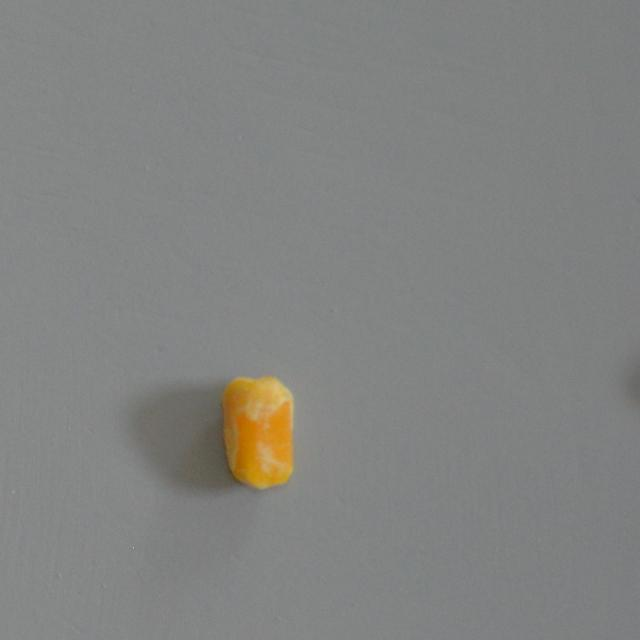pelicula: (222, 367, 295, 494)
